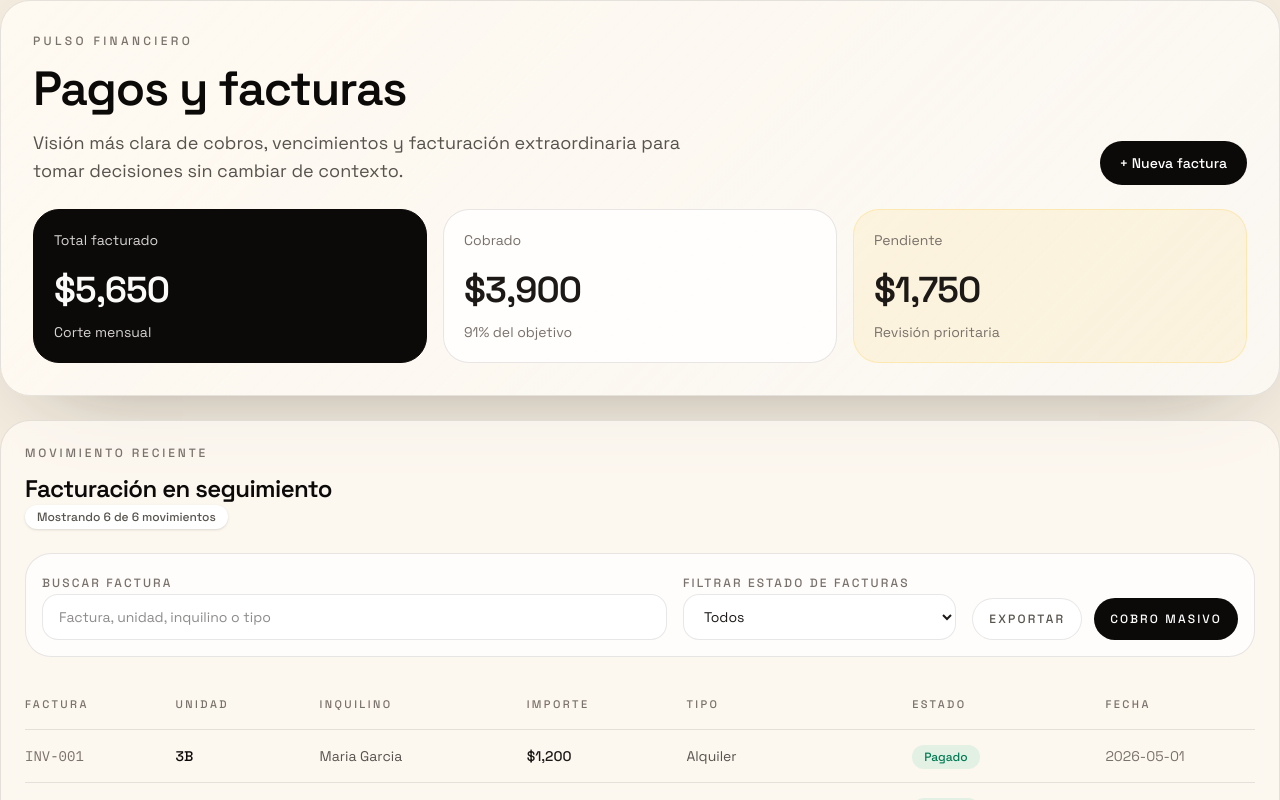
Test: Management page filters › filters payments by status
The width and height of the screenshot is (1280, 800).
Step 1. Select "Vencido" in the dropdown labelled "Filtrar estado de facturas" → (820, 617), box [683, 594, 956, 640]
Wait 220 ms
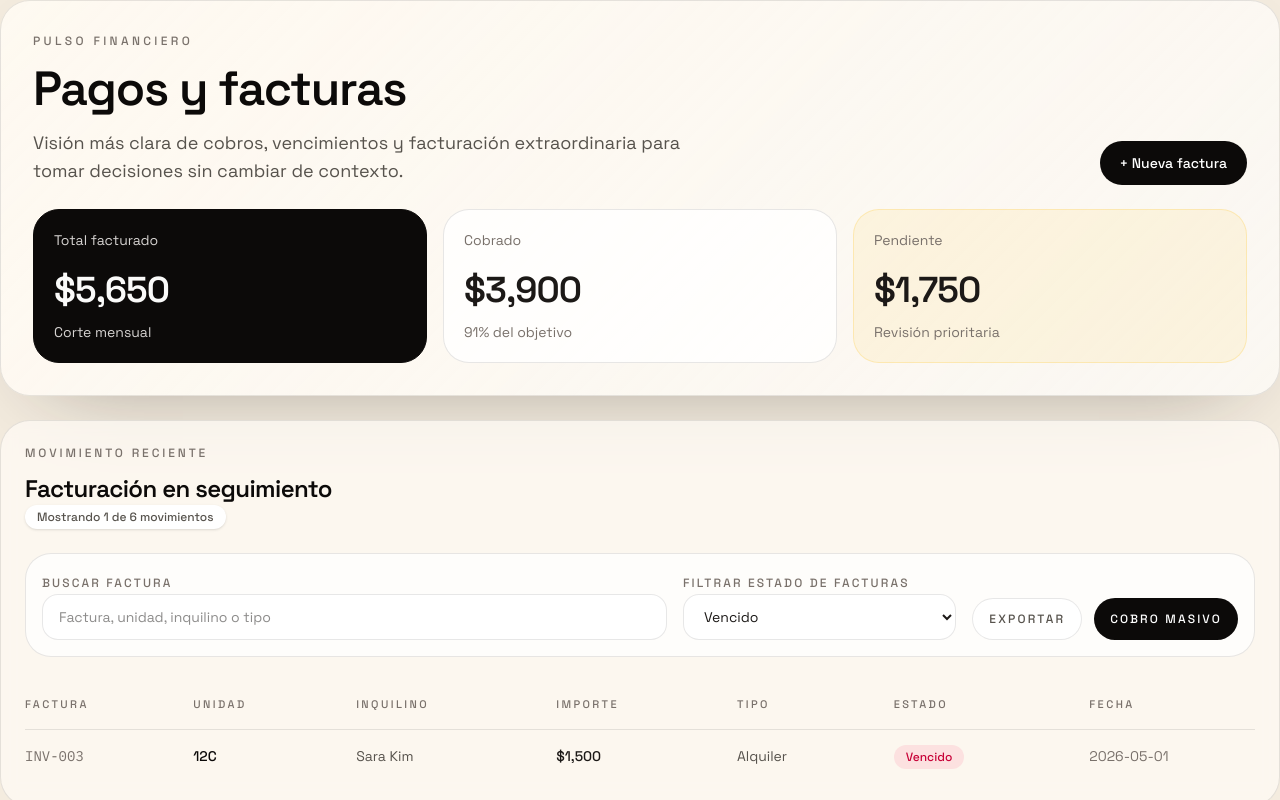
Expected: the text "Sara Kim" is shown, [340, 729, 540, 782]
Result: the text "Maria Garcia" is gone
